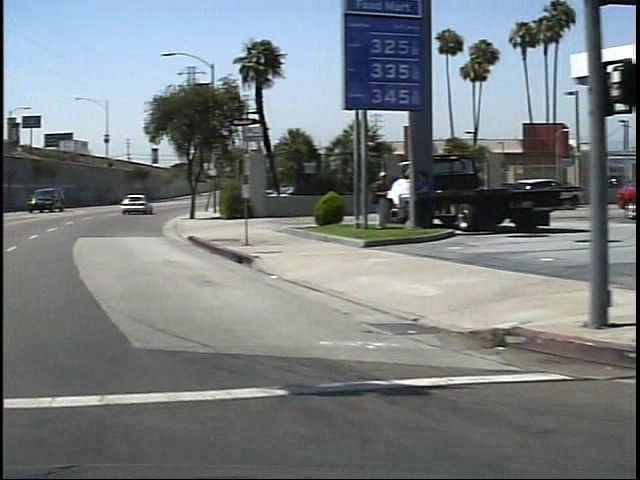person: (359, 163, 385, 230)
